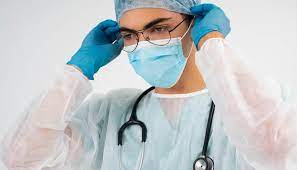with_mask_and_cap: (114, 1, 195, 88)
